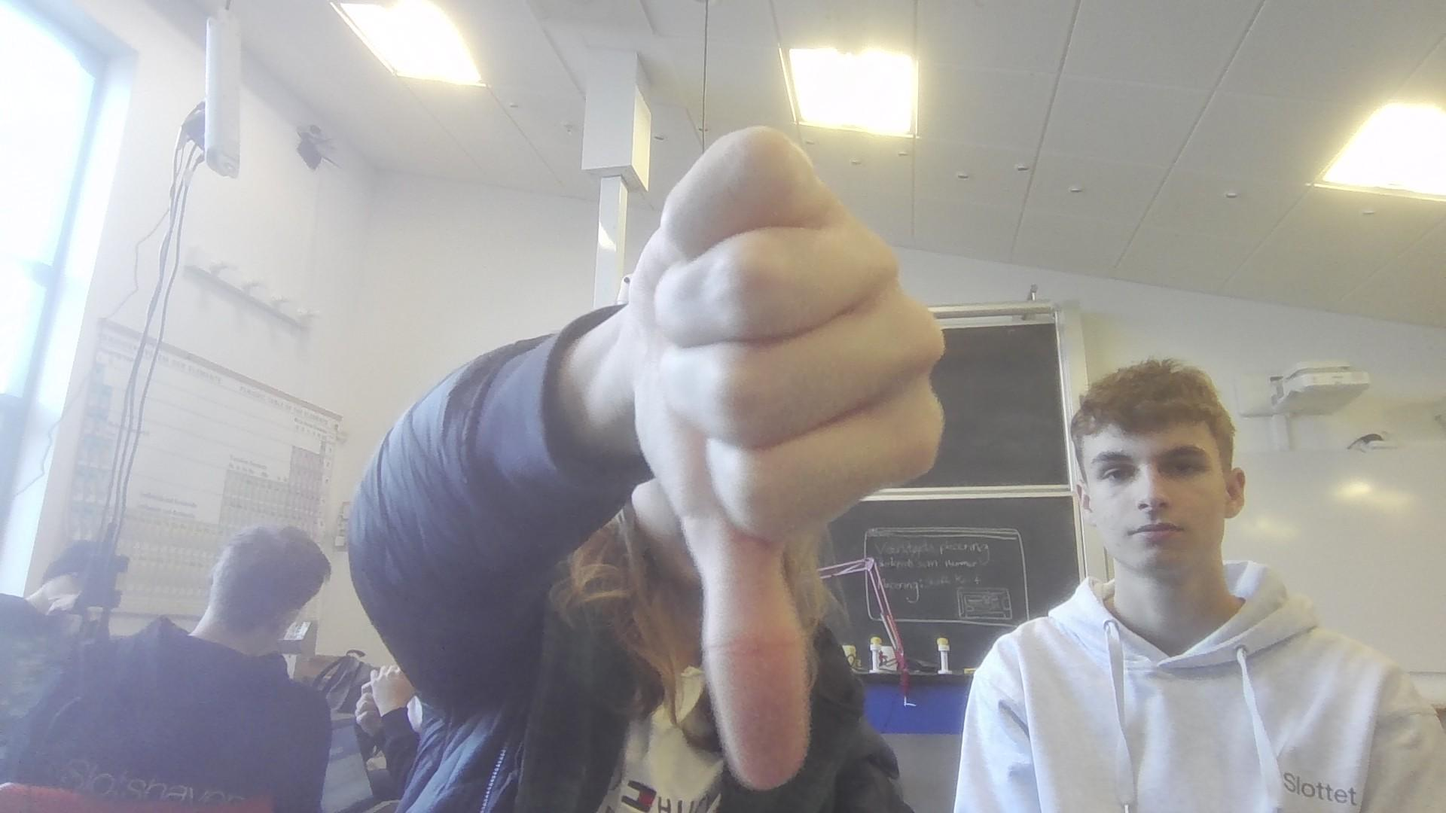thumbs down: (575, 125, 945, 795)
